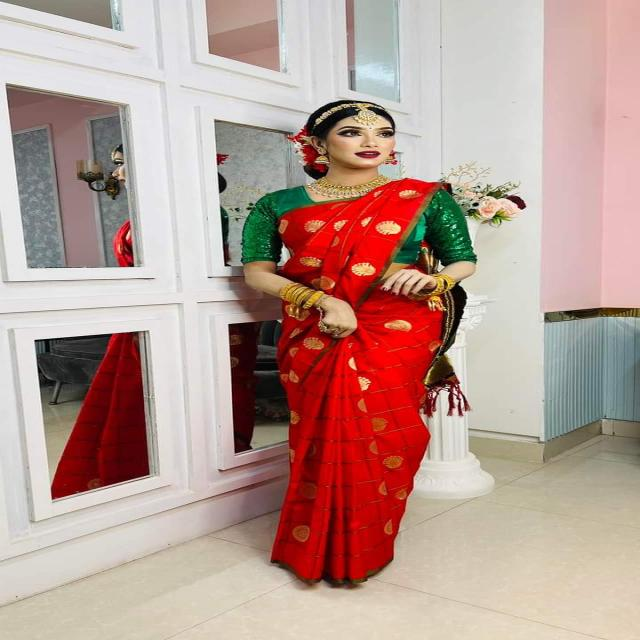female-dress: (256, 178, 479, 586)
